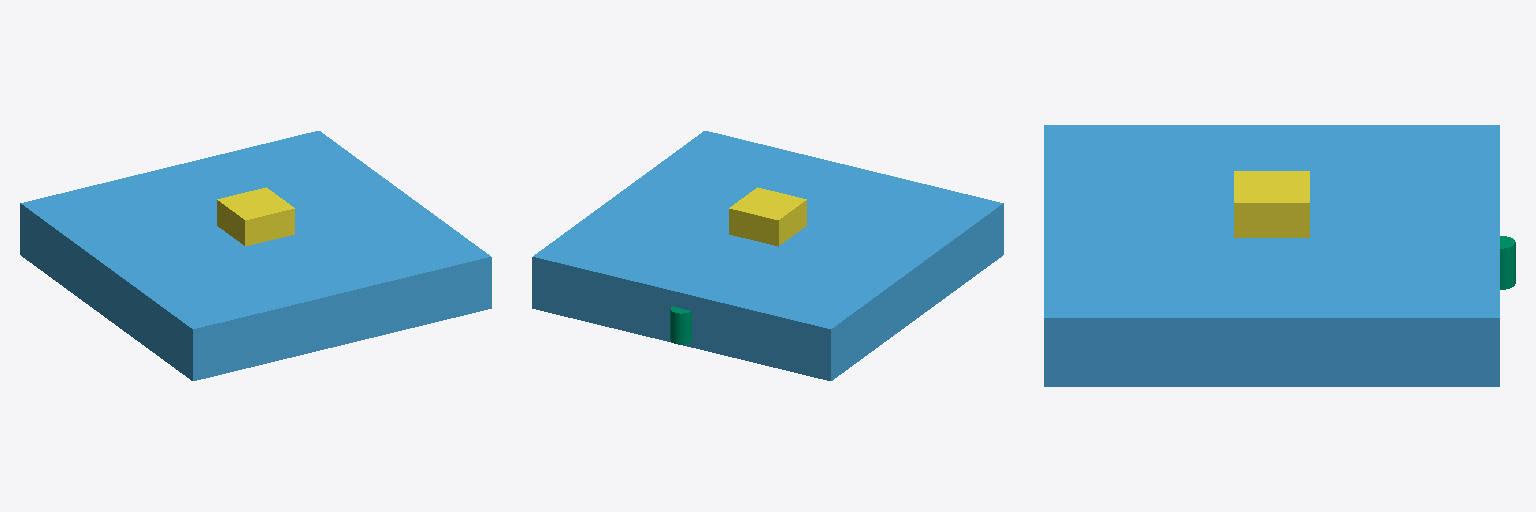
URDF robot description (er):
<?xml version="1.0" ?>
<!-- =================================================================================== -->
<!-- |    This document was autogenerated by xacro from simple_odom_robot.urdf.xacro   | -->
<!-- |    EDITING THIS FILE BY HAND IS NOT RECOMMENDED                                 | -->
<!-- =================================================================================== -->
<robot name="er">
  <material name="red">
    <color rgba="0.2 0 0 1"/>
  </material>
  <link name="base_link"/>
  <joint name="body_joint" type="fixed">
    <parent link="base_link"/>
    <child link="body_link"/>
    <origin rpy="0 0 0" xyz="0 0 0.05"/>
  </joint>
  <link name="body_link">
    <visual>
      <geometry>
        <box size="0.6 0.6 0.1"/>
      </geometry>
    </visual>
    <collision>
      <geometry>
        <box size="0.57 0.57 0.095"/>
      </geometry>
    </collision>
    <inertial>
      <origin rpy="0 0 0" xyz="0 0 0"/>
      <mass value="20.0"/>
      <inertia ixx="0.6166666666666667" ixy="0" ixz="0" iyx="0" iyy="0.6166666666666667" iyz="0" izx="0" izy="0" izz="1.2"/>
    </inertial>
  </link>
  <gazebo reference="body_link">
    <material>Gazebo/Red</material>
    <mu1 value="0.1"/>
    <mu2 value="0.1"/>
  </gazebo>
  <!-- <joint name="head_joint" type="fixed">
    <parent link="base_link"/>
    <child link="head_link"/>
    <origin xyz="0.05 0 0.12" rpy="0 0 0"/>
  </joint>
  <link name="head_link">
    <visual>
      <origin xyz="0 0 0" rpy="0 0 0" />
      <geometry>
        <cylinder radius="0.03" length="0.04"/>
      </geometry>
      <material name="red" />
    </visual>
  </link>
  <gazebo reference="head_link">
    <material>Gazebo/Red</material>
  </gazebo> -->
  <!-- <xacro:property name="radians" value="0.017453292519943295"/> -->
  <joint name="lidar_joint" type="revolute">
    <parent link="base_link"/>
    <child link="lidar_link"/>
    <origin rpy="0 0 0" xyz="0 0.3 0.04"/>
    <limit effort="0" lower="0" upper="0" velocity="0"/>
  </joint>
  <link name="lidar_link">
    <visual>
      <origin rpy="0 0 0" xyz="0 0 0"/>
      <geometry>
        <cylinder length="0.06" radius="0.02"/>
      </geometry>
    </visual>
    <collision>
      <origin rpy="0 0 0" xyz="0 0 0"/>
      <geometry>
        <cylinder length="0.06" radius="0.02"/>
      </geometry>
    </collision>
    <inertial>
      <origin rpy="0 0 0" xyz="0 0 0"/>
      <mass value="0.2"/>
      <inertia ixx="0.0001" ixy="0" ixz="0" iyx="0" iyy="0.0001" iyz="0" izx="0" izy="0" izz="0.0001"/>
    </inertial>
    <sensor name="lidar" type="gpu_lidar">
      <pose>0 0 0 0 0 0</pose>
      <visualize>false</visualize>
      <update_rate>10</update_rate>
      <lidar>
        <scan>
          <horizontal>
            <samples>400</samples>
            <resolution>1</resolution>
            <min_angle>-3.05433</min_angle>
            <max_angle>3.05433</max_angle>
          </horizontal>
        </scan>
        <range>
          <min>0.10</min>
          <max>20.0</max>
          <resolution>0.01</resolution>
        </range>
        <noise>
          <type>gaussian</type>
          <mean>0.0</mean>
          <stddev>0.01</stddev>
        </noise>
      </lidar>
    </sensor>
  </link>
  <gazebo>

        </gazebo>
  <!-- <xacro:laser_macro prefix="lidar2" parent="base_link" xyz="-${lidar_w/2} ${lidar_w/2} 0.04" rpy="0 0 ${3*PI/4}" /> -->
  <joint name="imu_joint" type="revolute">
    <parent link="base_link"/>
    <child link="imu_link"/>
    <origin rpy="0 0 0" xyz="0.0 0 0.10"/>
    <limit effort="0" lower="0" upper="0" velocity="0"/>
  </joint>
  <link name="imu_link">
    <visual>
      <geometry>
        <box size="0.1 0.1 0.1"/>
      </geometry>
    </visual>
    <collision>
      <geometry>
        <box size="0.1 0.1 0.1"/>
      </geometry>
    </collision>
    <inertial>
      <origin rpy="0 0 0" xyz="0 0 0"/>
      <mass value="0.1"/>
      <inertia ixx="0.0001" ixy="0" ixz="0" iyx="0" iyy="0.0001" iyz="0" izx="0" izy="0" izz="0.0001"/>
    </inertial>
    <sensor name="imu_sensor" type="imu">
      <always_on>true</always_on>
      <update_rate>100</update_rate>
      <visualize>true</visualize>
      <topic>imu</topic>
      <pose>0 0 0 0 0 0</pose>
    </sensor>
  </link>
  <gazebo>

        </gazebo>
  <plugin filename="ignition-gazebo-velocity-control-system" name="ignition::gazebo::systems::VelocityControl">
    </plugin>
</robot>

--- What the picture shows (computed from the rendered views, not written in the file) ---
The picture shows the robot from 3 angles, left to right: view 1: azimuth 30°, elevation 25°; view 2: azimuth 150°, elevation 25°; view 3: azimuth 270°, elevation 25°; orthographic projection.
Model er with 4 links and 3 joints (2 revolute, 1 fixed), rooted at base_link, posed all joints at 0.
Visible links, largest first — view 1: body_link, imu_link; view 2: body_link, imu_link, lidar_link; view 3: body_link, imu_link, lidar_link.
Boxes of the visible links, x1=… form: body_link: x1=20, y1=131, x2=491, y2=380; imu_link: x1=217, y1=187, x2=294, y2=246; body_link: x1=532, y1=131, x2=1003, y2=380; imu_link: x1=729, y1=187, x2=806, y2=246; lidar_link: x1=670, y1=306, x2=691, y2=344; body_link: x1=1044, y1=125, x2=1499, y2=386; imu_link: x1=1234, y1=171, x2=1309, y2=237; lidar_link: x1=1500, y1=236, x2=1515, y2=289.
Size in the robot's own frame: 0.6 by 0.62 by 0.15 metres.
Geometry: primitives only (box / cylinder / sphere), no mesh files.